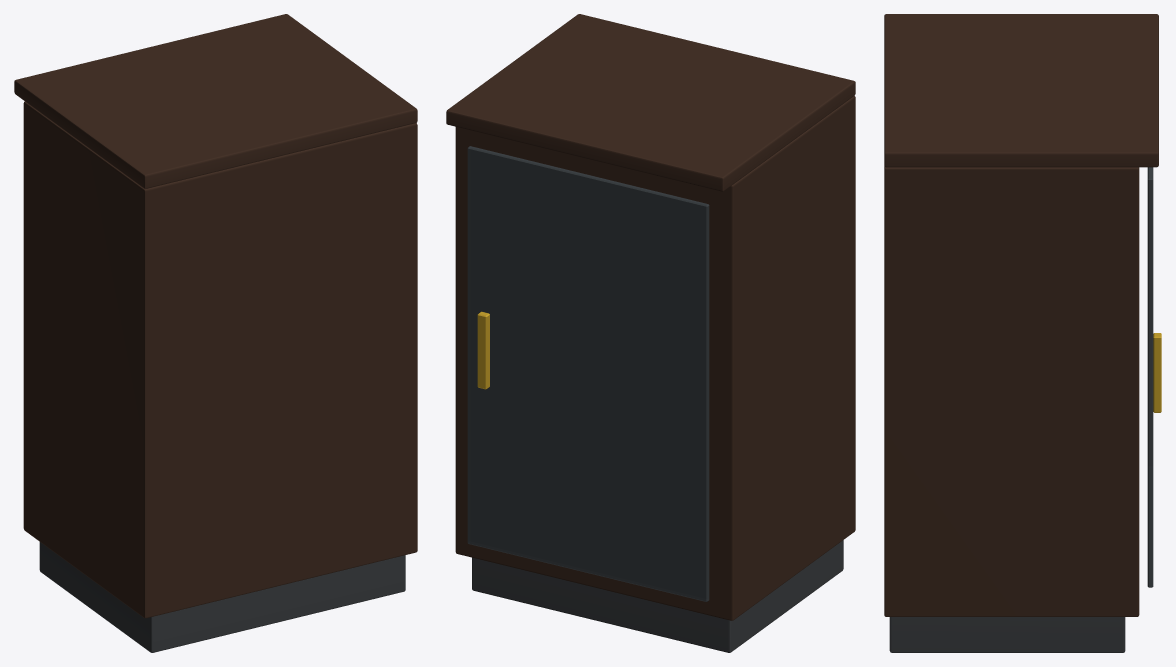
Rendered from prop_humidor_cabinet.glb.
The picture shows the model from 3 angles, left to right: view 1: azimuth 30°, elevation 25°; view 2: azimuth 150°, elevation 25°; view 3: azimuth 270°, elevation 25°; orthographic projection. The views are drawn at different scales.
Parts seen in each view (by area): view 1: Cabinet; view 2: Cabinet; view 3: Cabinet.
Part boxes in pixels (x1,y1,x2,y2): Cabinet: (14,14,417,652); Cabinet: (446,14,855,652); Cabinet: (884,14,1161,652).
Size of what is drawn, in the model's own units: 0.59 by 0.995 by 0.495.
